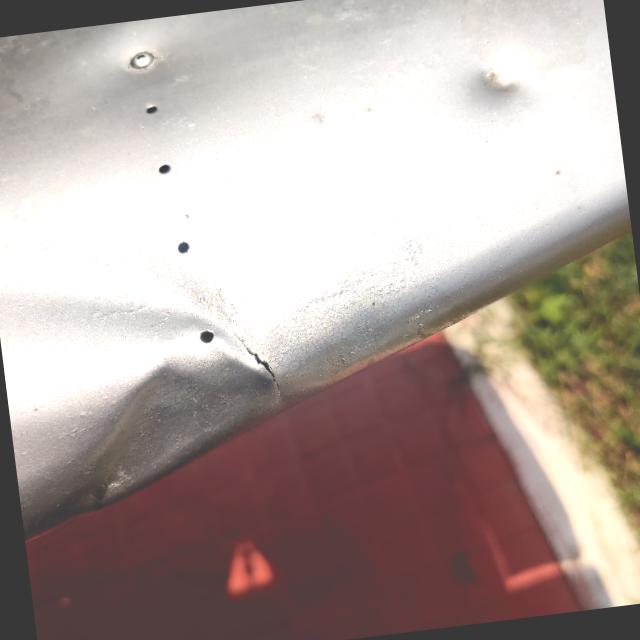dent: (0, 218, 306, 540), (443, 34, 548, 132)
